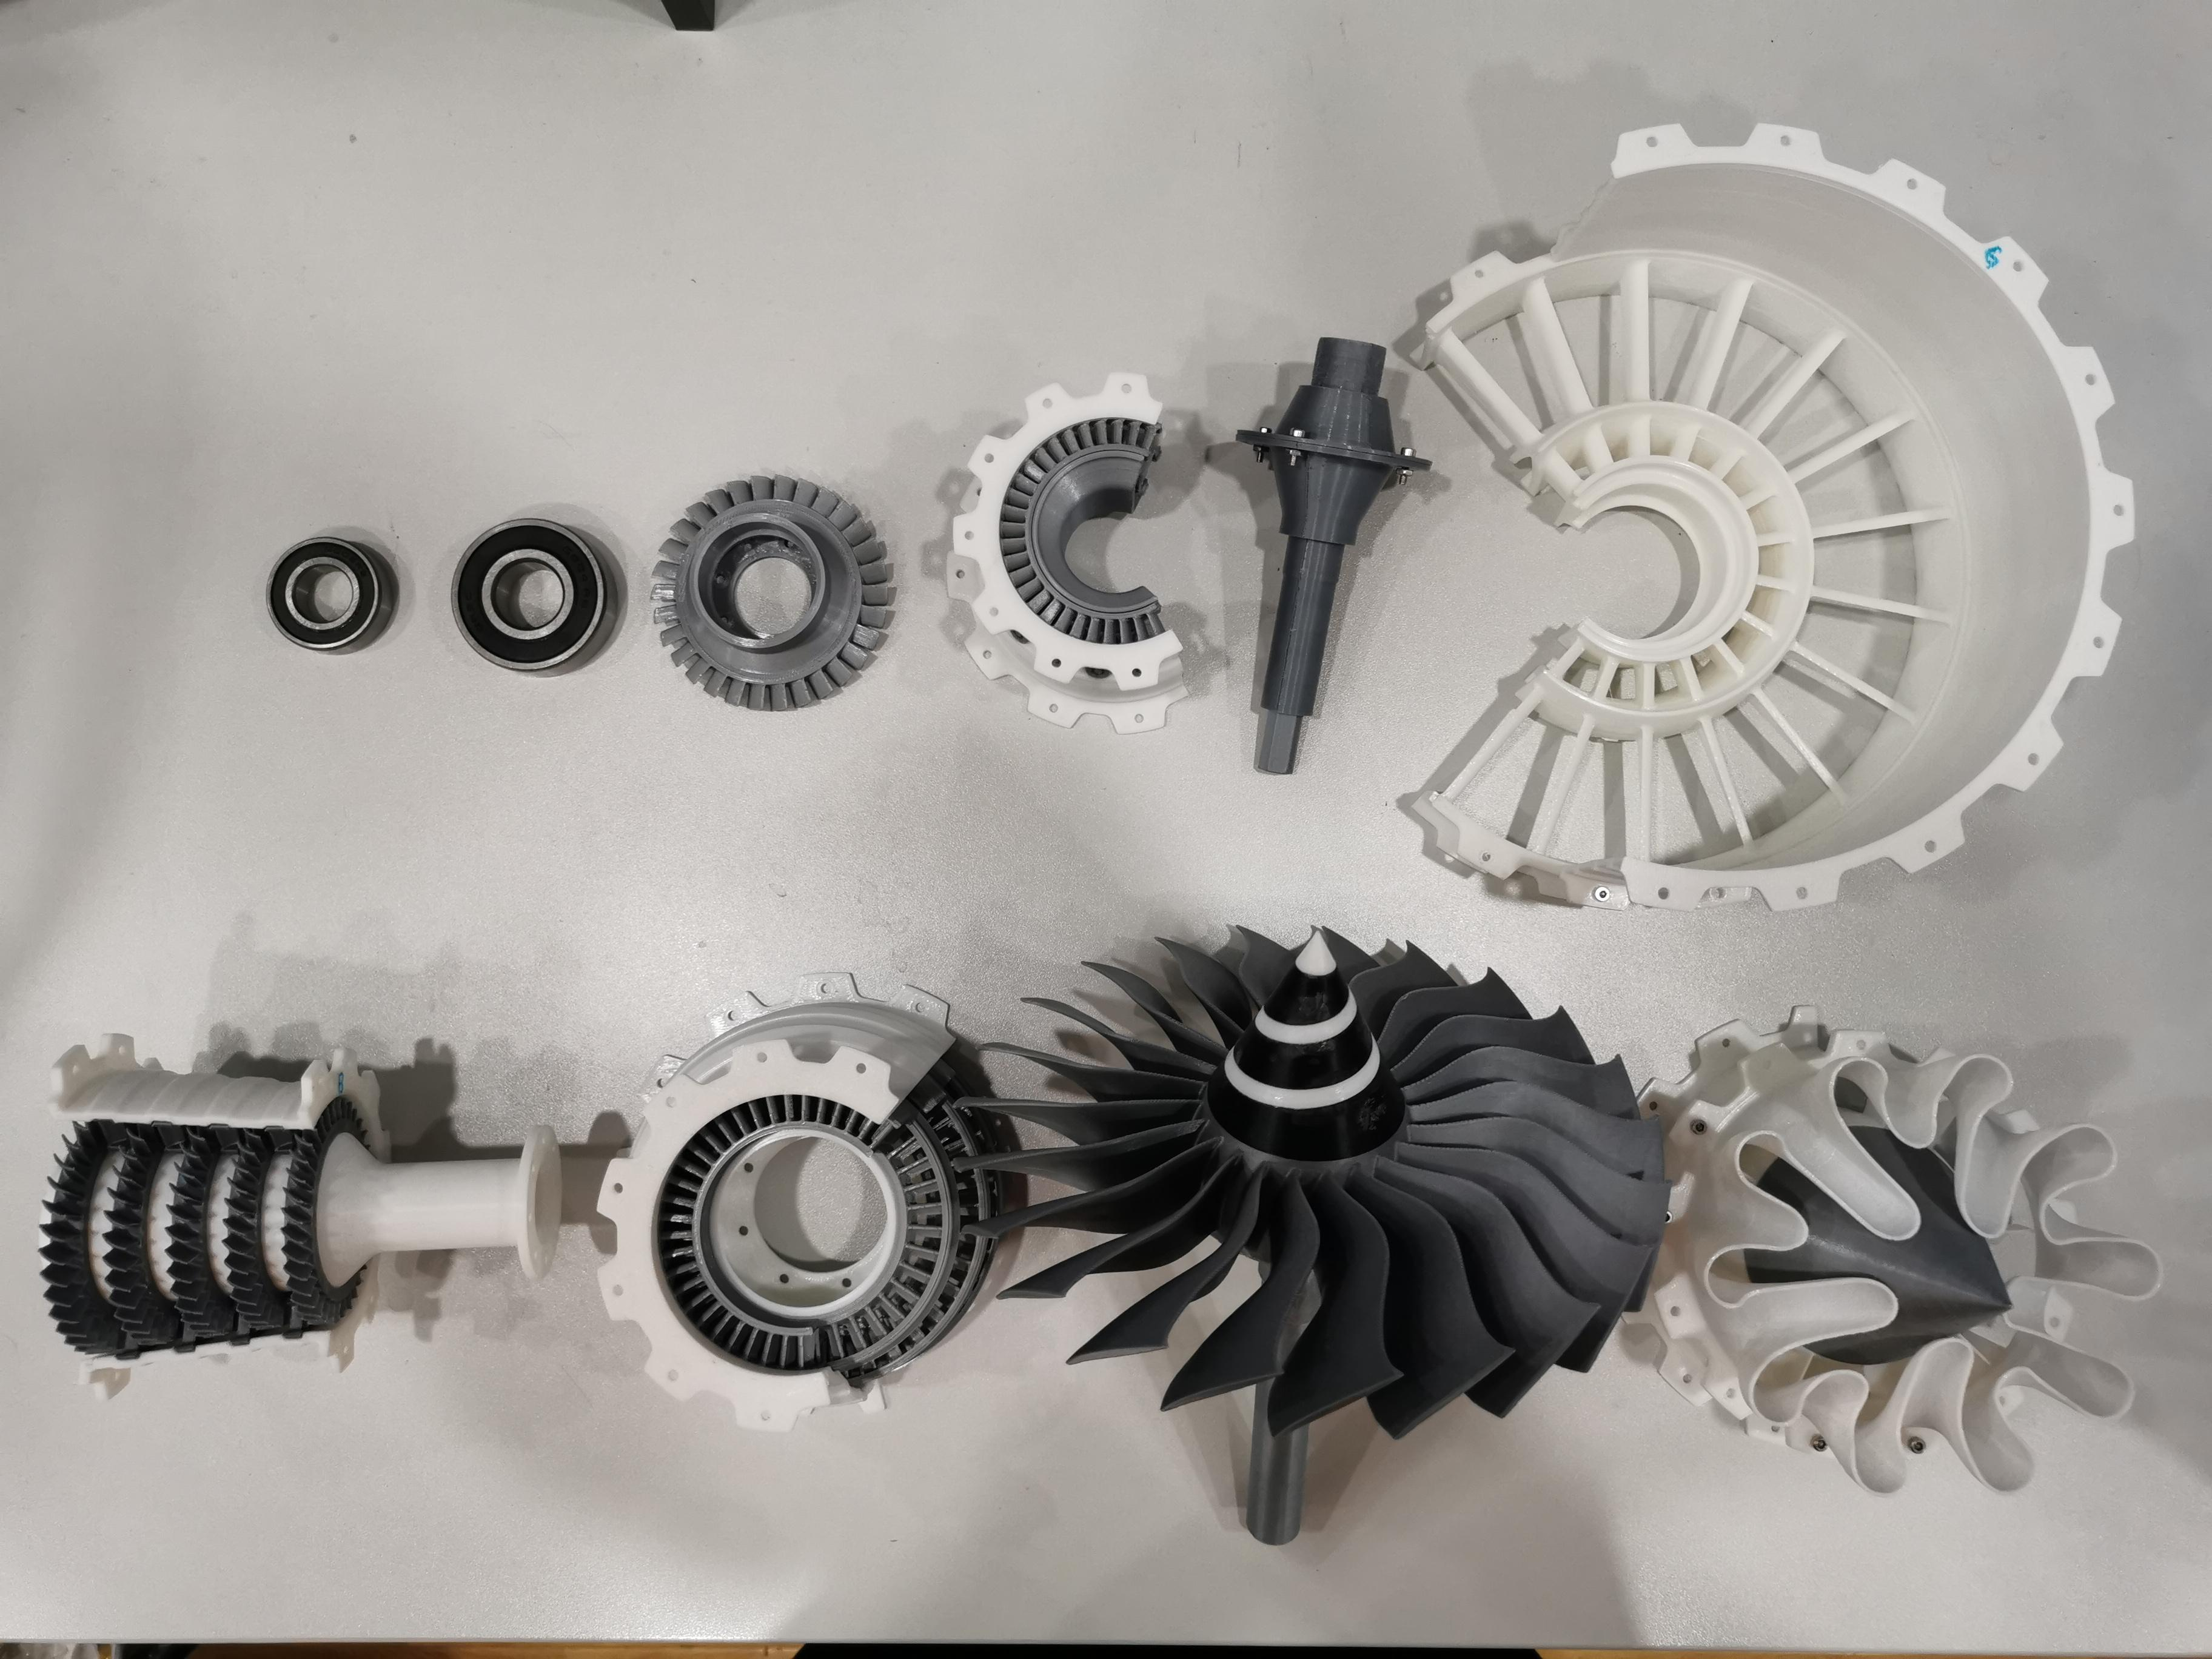Bearing-6003: (246, 514, 402, 667)
Bearing-6204: (444, 497, 632, 701)
Combustion Section: (932, 361, 1204, 742)
Fan Casing and Support: (1392, 113, 2148, 931)
Fan and Low Pressure Shaft: (946, 918, 1672, 1558)
HPT Section: (634, 464, 909, 721)
High Pressure Spool: (28, 1023, 575, 1415)
LPT Section: (587, 967, 1014, 1446)
Low Pressure Spool: (1223, 329, 1437, 782)
Nozzle Section: (1615, 997, 2170, 1506)
